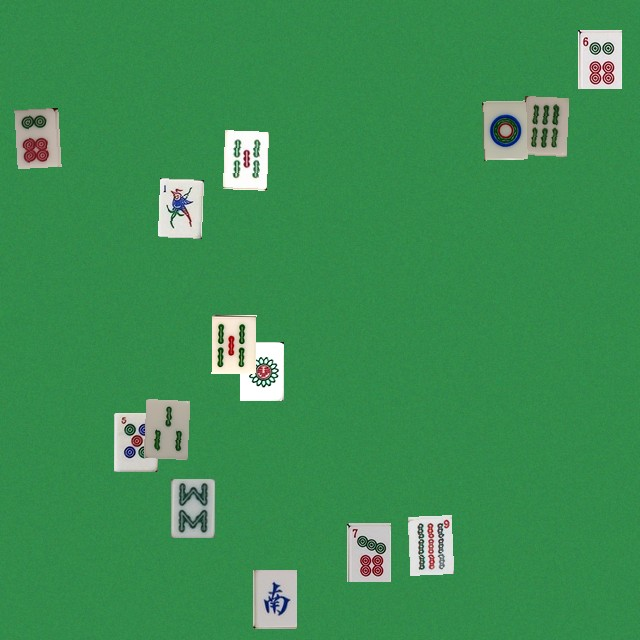tile: (407, 515, 451, 574), (170, 478, 214, 537), (239, 341, 283, 400), (346, 522, 390, 581), (113, 412, 157, 471), (252, 569, 296, 628), (522, 95, 566, 154), (482, 100, 526, 159), (143, 398, 187, 457), (14, 107, 58, 166), (577, 29, 621, 88), (222, 130, 266, 189), (211, 314, 255, 373), (157, 178, 201, 237)
